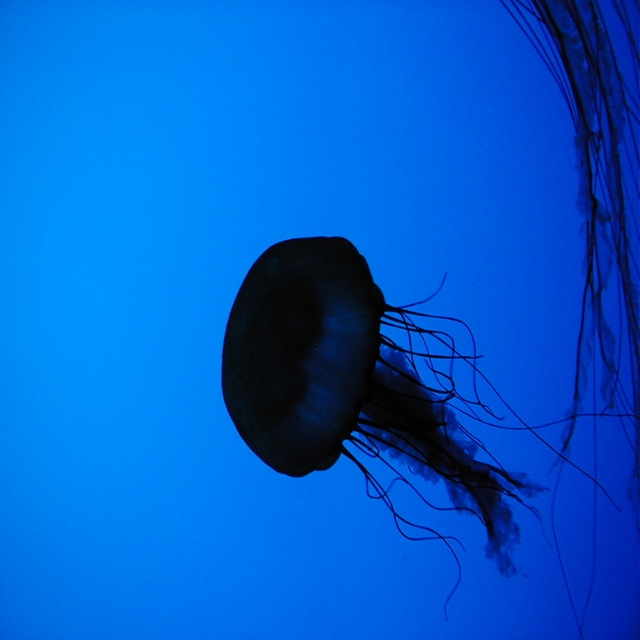Jellyfish: (222, 233, 640, 623)
